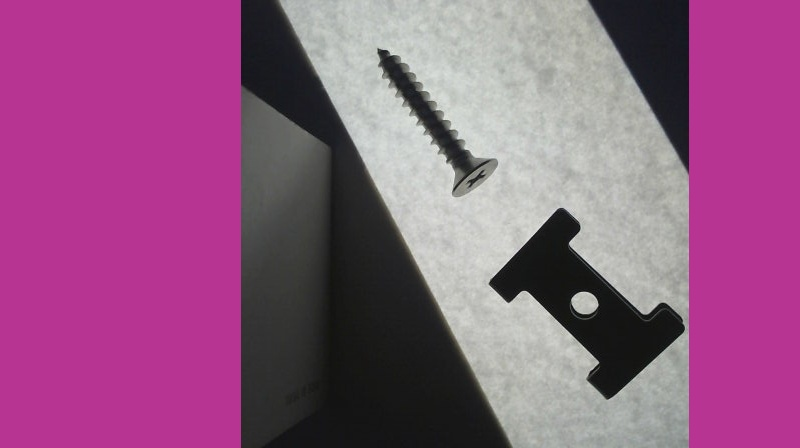O002: (486, 206, 685, 400)
S001: (373, 44, 500, 199)
